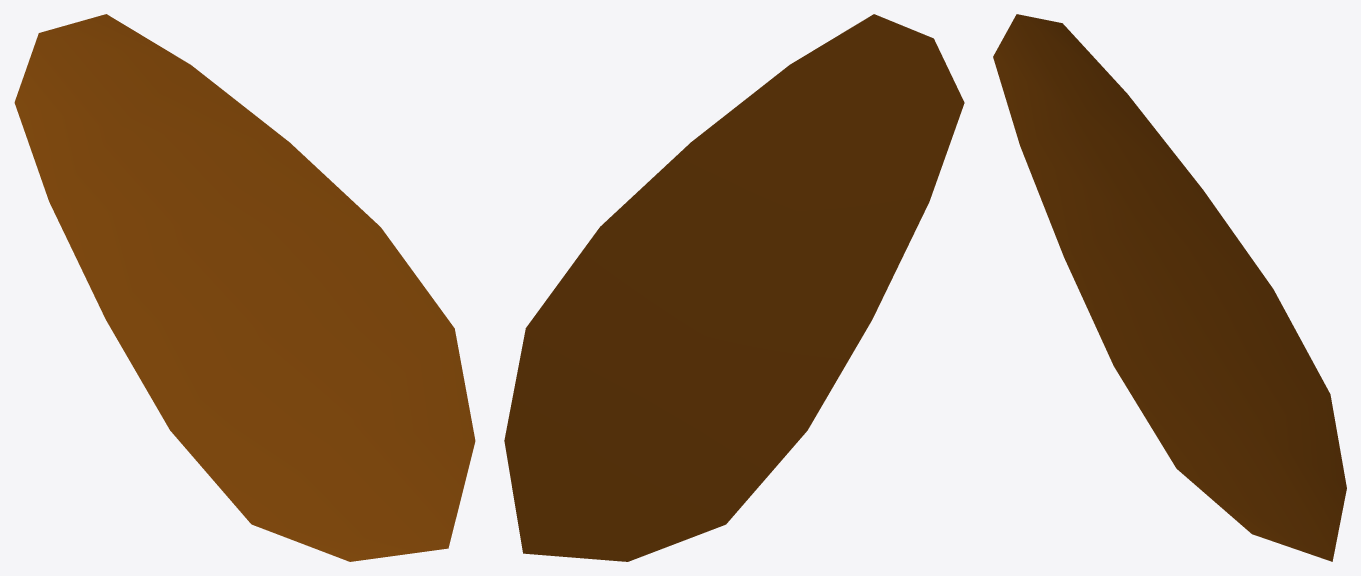
File: ara_feather_flight_secondary_028.obj
3 views of the same model, side by side, from view 1: azimuth 30°, elevation 25°; view 2: azimuth 150°, elevation 25°; view 3: azimuth 330°, elevation 25° (orthographic). The views are drawn at different scales.
Parts seen in each view (by area): view 1: feather_flight_secondary_028; view 2: feather_flight_secondary_028; view 3: feather_flight_secondary_028.
Part boxes in pixels (x1,y1,x2,y2): feather_flight_secondary_028: (14, 14, 475, 561); feather_flight_secondary_028: (504, 14, 964, 561); feather_flight_secondary_028: (993, 14, 1346, 561).
Size of the model in its own units: 0.0537 by 0.0693 by 0.00108.
